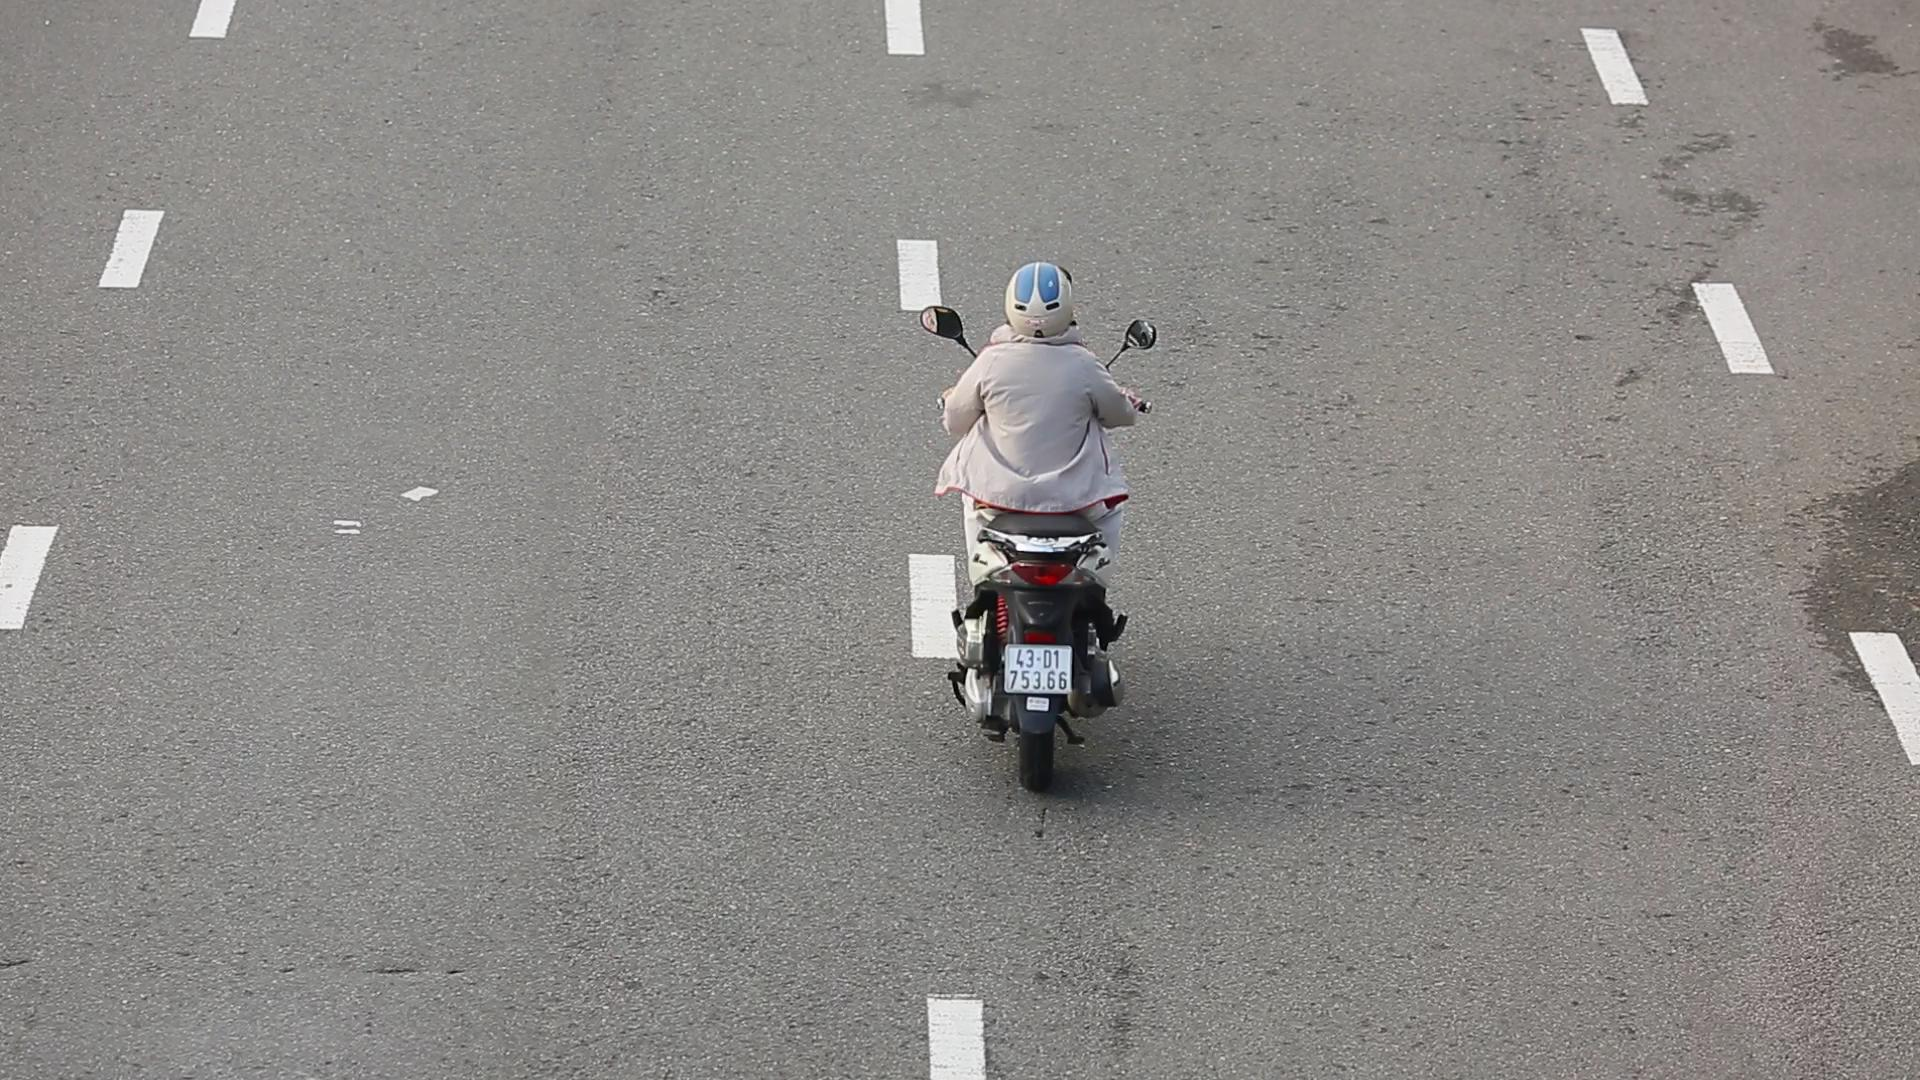motobike: (918, 252, 1155, 787)
